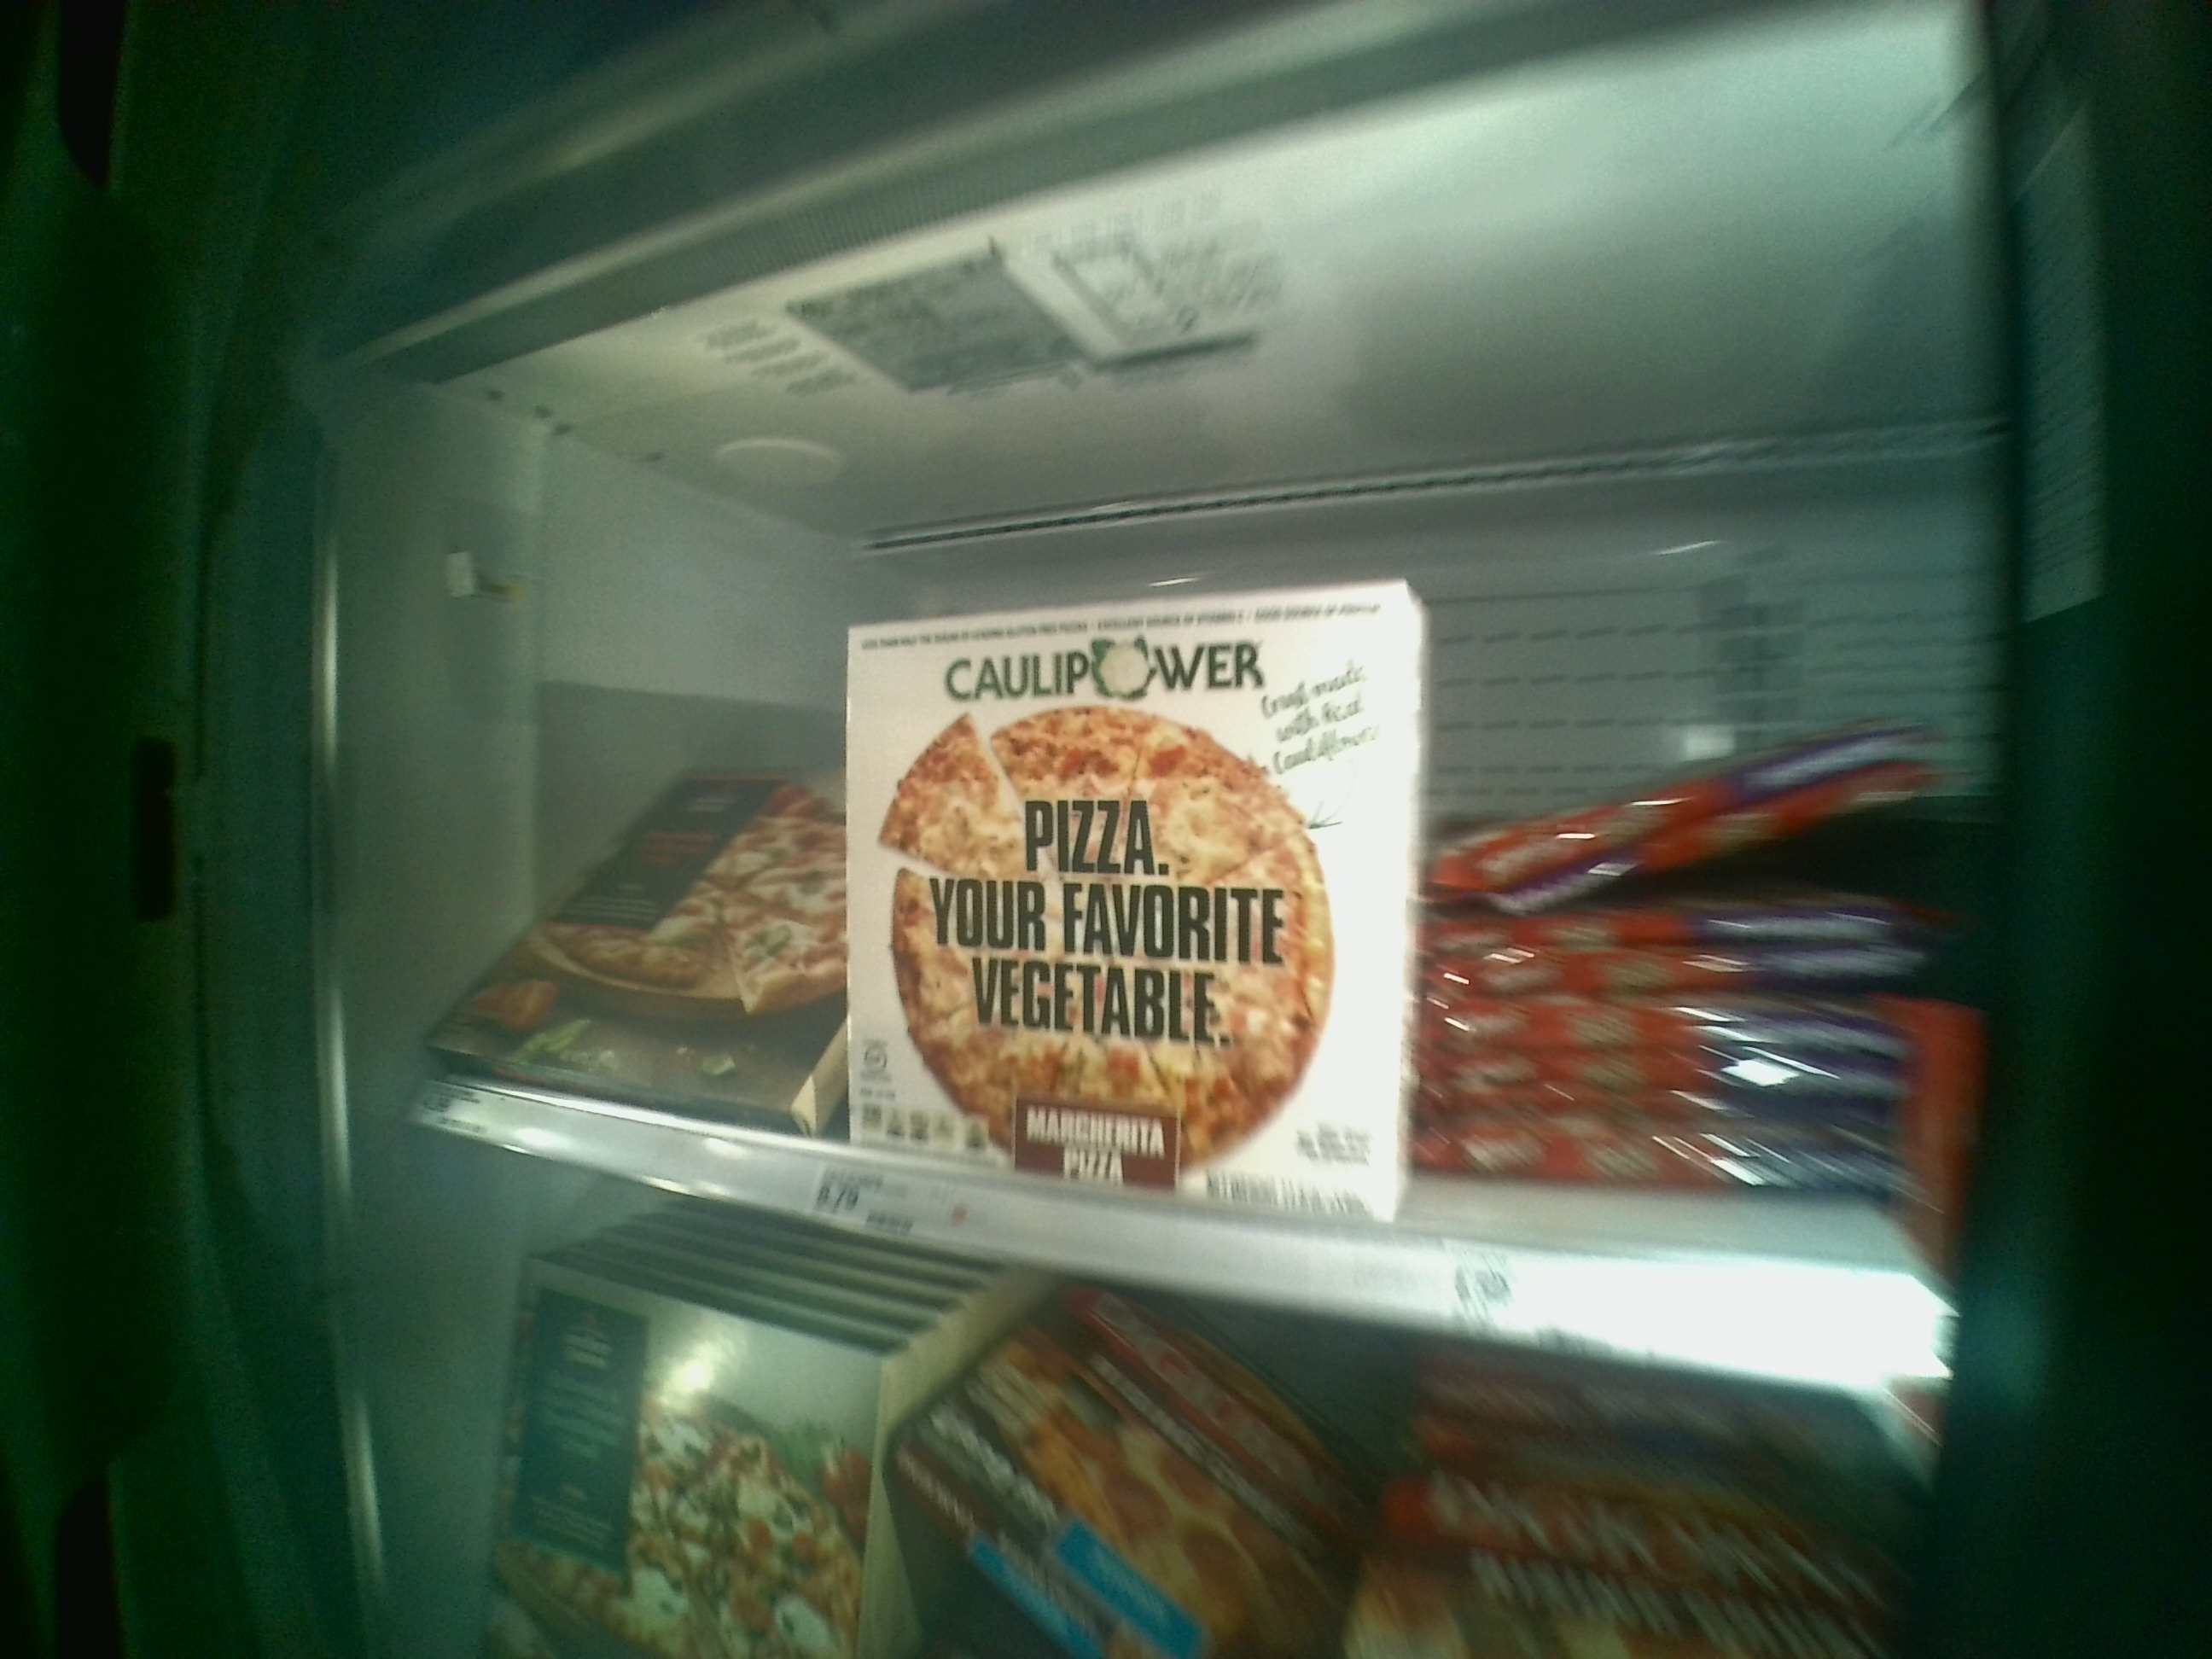pizza: (848, 617, 1385, 1209), (432, 713, 838, 1115), (486, 1284, 873, 1657)
